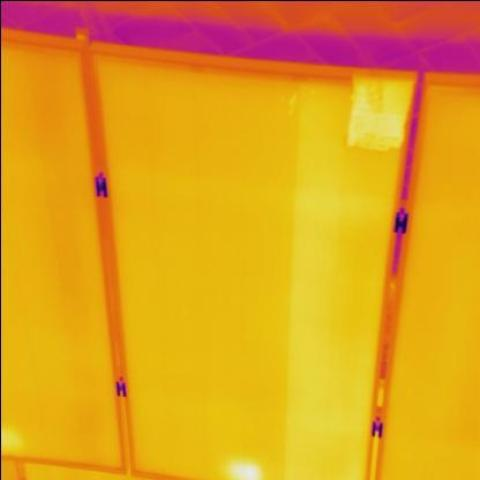fault: (353, 80, 404, 147), (227, 461, 270, 480)
